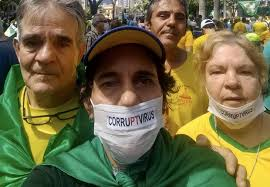mask_weared_incorrect: (89, 53, 164, 165), (208, 47, 260, 129)
without_mask: (17, 12, 83, 102), (151, 2, 186, 47)
